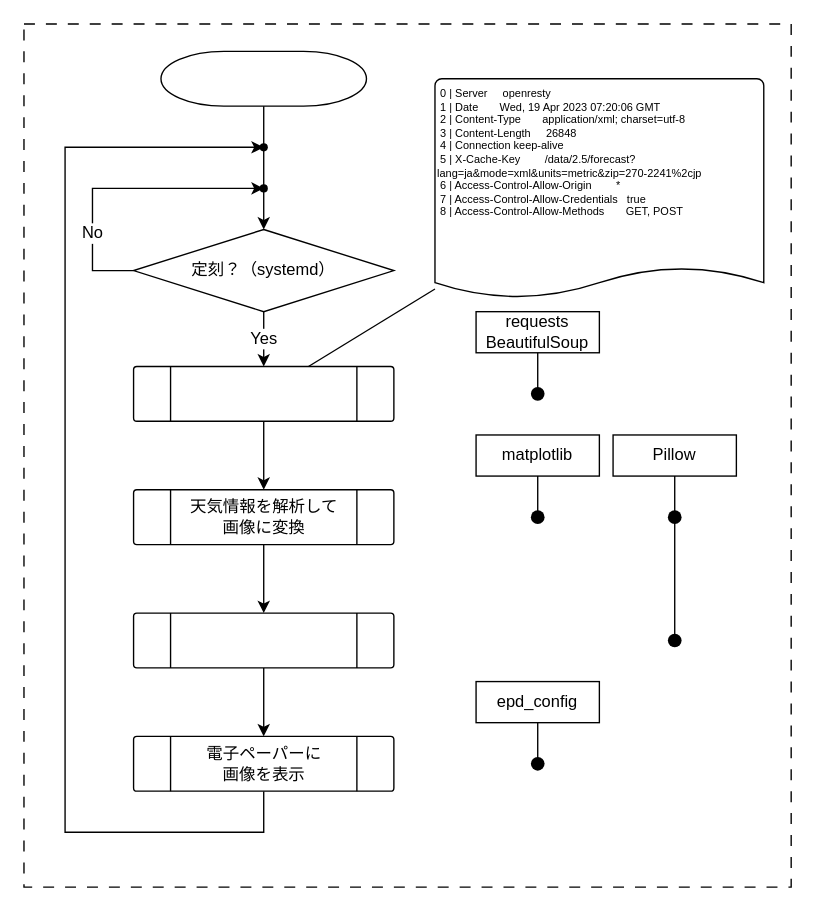
Some shapes in this 815 by 911 pixel diagram are drawn without their labels. Each missing label, with the centre of its shape:
OpenWeatherMapから 天気情報を取得: (x=263, y=393)
画像を7色に減色: (x=263, y=640)
